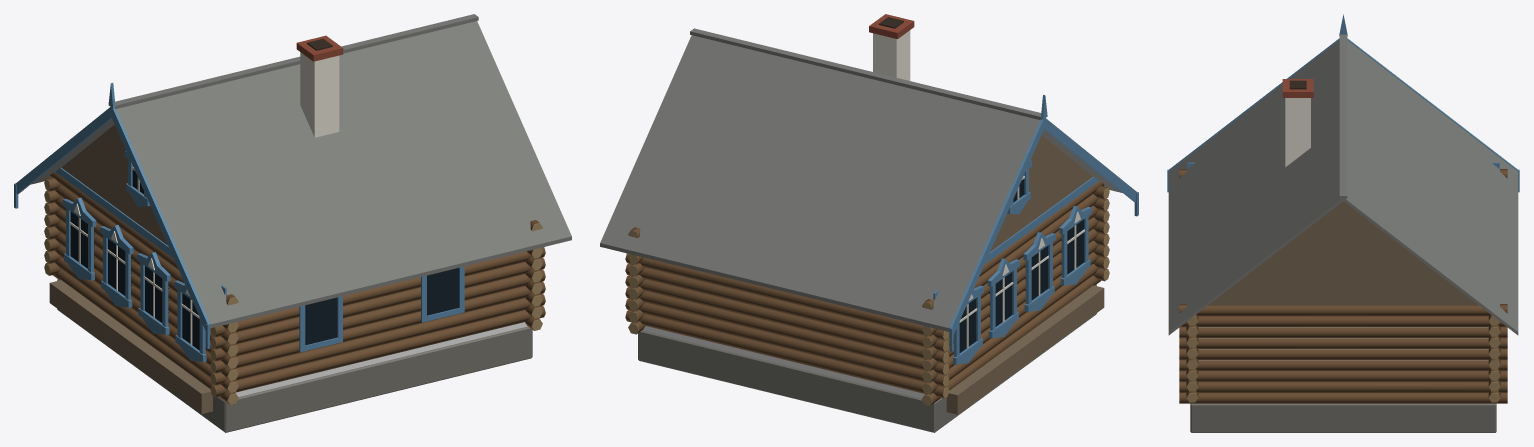
Rendered from izba-srub-5.glb.
3 renders of one model, left to right at view 1: azimuth 30°, elevation 25°; view 2: azimuth 150°, elevation 25°; view 3: azimuth 270°, elevation 25°, orthographic. The views are drawn at different scales.
Parts seen in each view (by area): view 1: 05_paint2, 02_paint1, 06_paint0, 00_#77756e, 04_#7a6a56, 07_#1c2630, 08_#e6e2d6, 03_#a08660, solid, 09_#8a4a3a; view 2: 05_paint2, 02_paint1, 00_#77756e, 06_paint0, 04_#7a6a56, 07_#1c2630, 08_#e6e2d6, 03_#a08660, solid, 09_#8a4a3a; view 3: 05_paint2, 02_paint1, 04_#7a6a56, 00_#77756e, 08_#e6e2d6, 03_#a08660, solid, 06_paint0, 09_#8a4a3a.
Part boxes in pixels (x1,y1,x2,y2): 05_paint2: [31, 14, 571, 328]; 02_paint1: [46, 172, 545, 404]; 06_paint0: [14, 83, 464, 362]; 00_#77756e: [57, 279, 532, 432]; 04_#7a6a56: [49, 124, 212, 414]; 07_#1c2630: [70, 166, 458, 350]; 08_#e6e2d6: [70, 52, 339, 345]; 03_#a08660: [44, 179, 545, 405]; solid: [235, 322, 527, 396]; 09_#8a4a3a: [296, 35, 343, 61]; 05_paint2: [600, 28, 1122, 331]; 02_paint1: [625, 181, 1107, 405]; 00_#77756e: [638, 284, 1096, 432]; 06_paint0: [933, 95, 1138, 364]; 04_#7a6a56: [946, 135, 1104, 414]; 07_#1c2630: [953, 175, 1084, 352]; 08_#e6e2d6: [873, 30, 1084, 348]; 03_#a08660: [625, 188, 1109, 405]; solid: [643, 326, 924, 398]; 09_#8a4a3a: [869, 14, 914, 38]; 05_paint2: [1168, 34, 1518, 335]; 02_paint1: [1179, 169, 1507, 403]; 04_#7a6a56: [1208, 201, 1478, 305]; 00_#77756e: [1190, 403, 1496, 432]; 08_#e6e2d6: [1285, 98, 1310, 166]; 03_#a08660: [1186, 316, 1500, 402]; solid: [1198, 327, 1488, 360]; 06_paint0: [1167, 14, 1519, 192]; 09_#8a4a3a: [1282, 79, 1313, 97].
Bounding box in the file's own units: 8.9 × 7.18 × 8.16.
